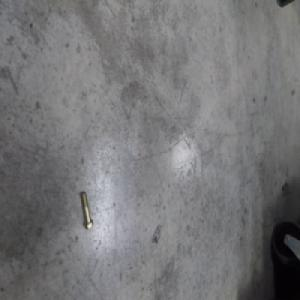Bolt: (80, 190, 94, 230)
